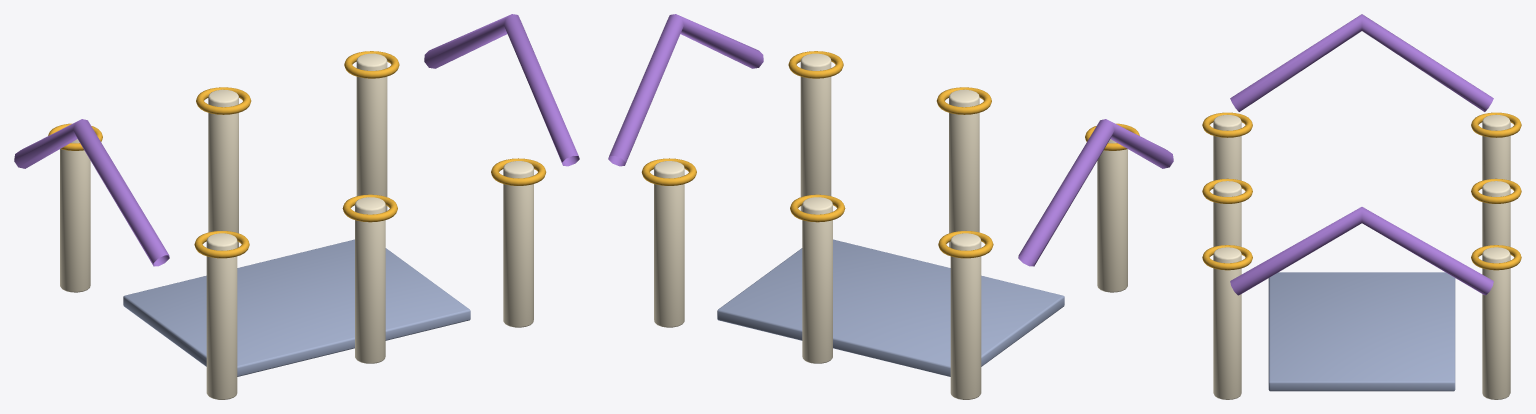
The model's file is r023_castle_castle_hall_overall_hall.glb.
3 views of the same model, side by side, from view 1: azimuth 30°, elevation 25°; view 2: azimuth 150°, elevation 25°; view 3: azimuth 270°, elevation 25° (orthographic). The views are drawn at different scales.
Parts seen in each view (by area): view 1: r023_castle_castle_hall_overall_hall.001; view 2: r023_castle_castle_hall_overall_hall.001; view 3: r023_castle_castle_hall_overall_hall.001.
Part boxes in pixels (x1,y1,x2,y2): r023_castle_castle_hall_overall_hall.001: (14, 14, 579, 399); r023_castle_castle_hall_overall_hall.001: (608, 14, 1173, 399); r023_castle_castle_hall_overall_hall.001: (1202, 14, 1521, 399).
Size of the model in its own units: 12.68 by 6.69 by 8.56.
